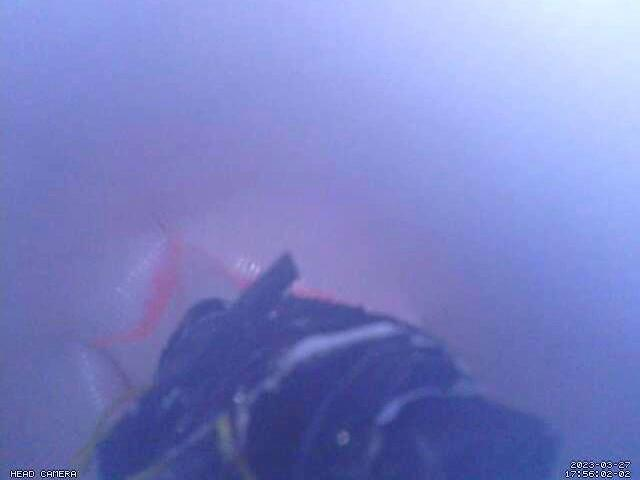head: (89, 237, 338, 351)
